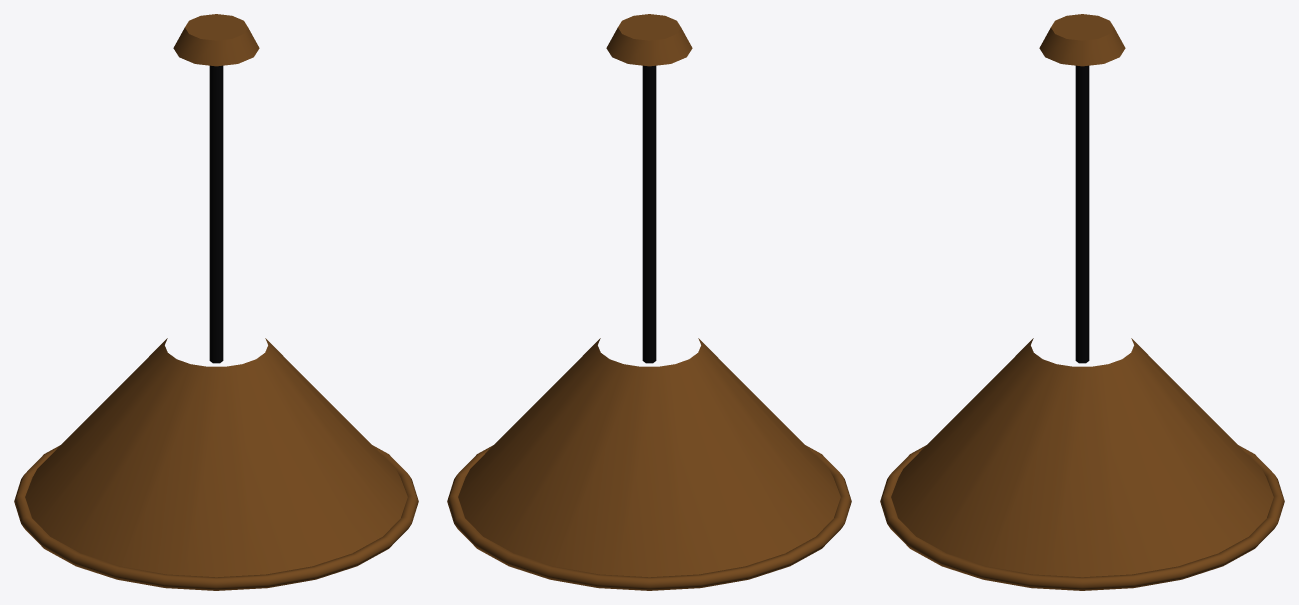
The model's file is pendant_lamp.glb.
The picture shows the model from 3 angles, left to right: view 1: azimuth 30°, elevation 25°; view 2: azimuth 150°, elevation 25°; view 3: azimuth 270°, elevation 25°; orthographic projection.
Parts seen in each view (by area): view 1: pendant_lamp; view 2: pendant_lamp; view 3: pendant_lamp.
Boxes of the visible parts, bbox=[...] form: pendant_lamp: bbox=[14, 14, 418, 590]; pendant_lamp: bbox=[447, 14, 851, 590]; pendant_lamp: bbox=[880, 14, 1284, 590].
Size of the model in its own units: 0.704 by 0.9204 by 0.704.
